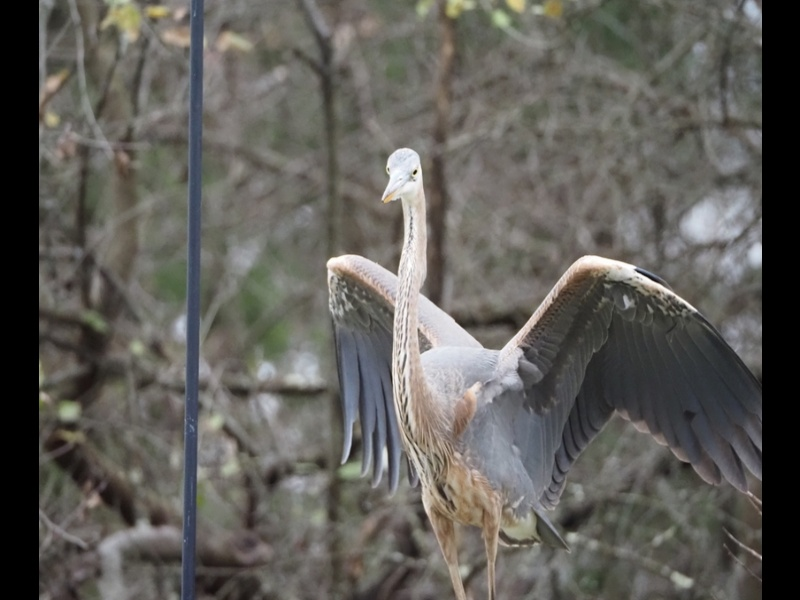heron: (323, 145, 762, 598)
